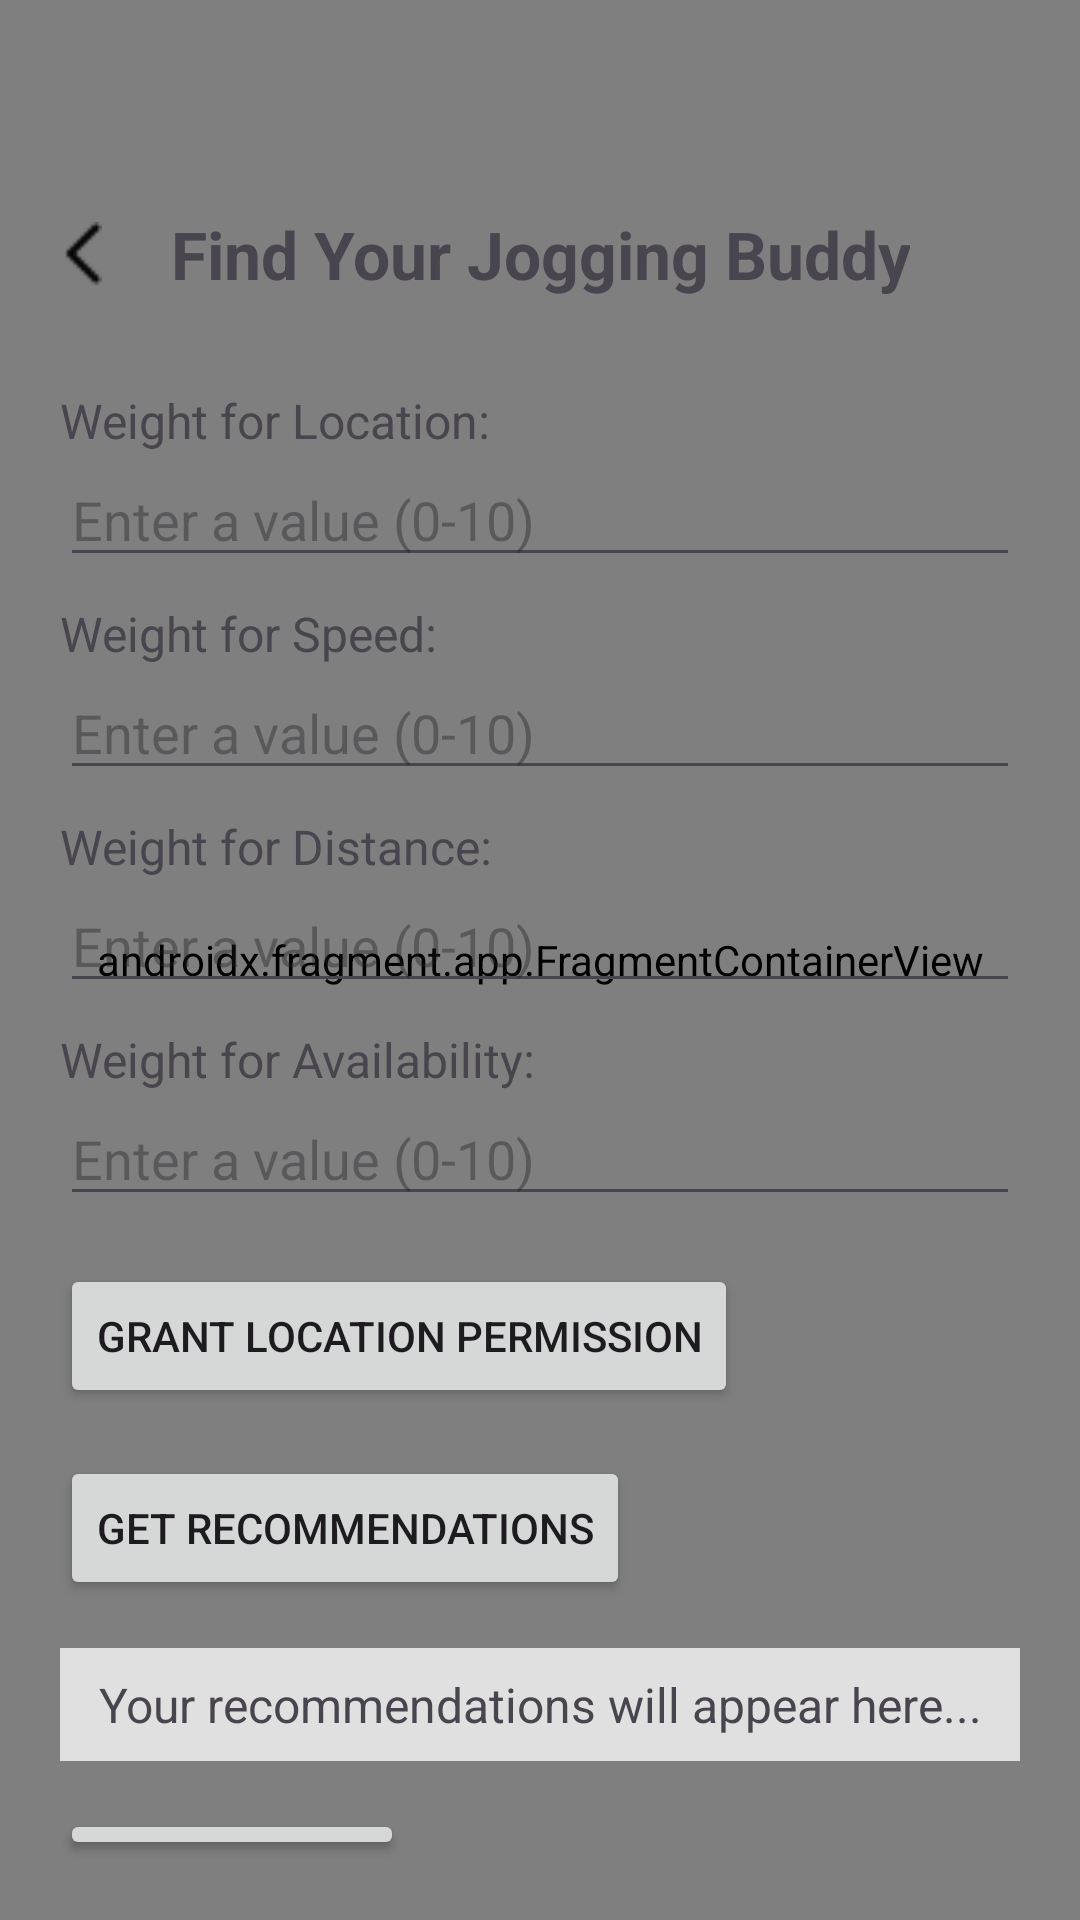

Icon bounding boxes for this 1080 × 1920 phone screenshot, format (x1, y1, x2, y2):
chevron left: (66, 222, 102, 285)
